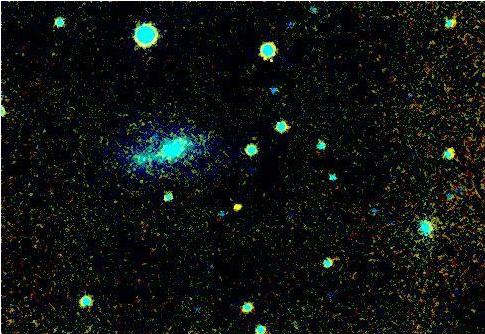star: (221, 192, 251, 222)
